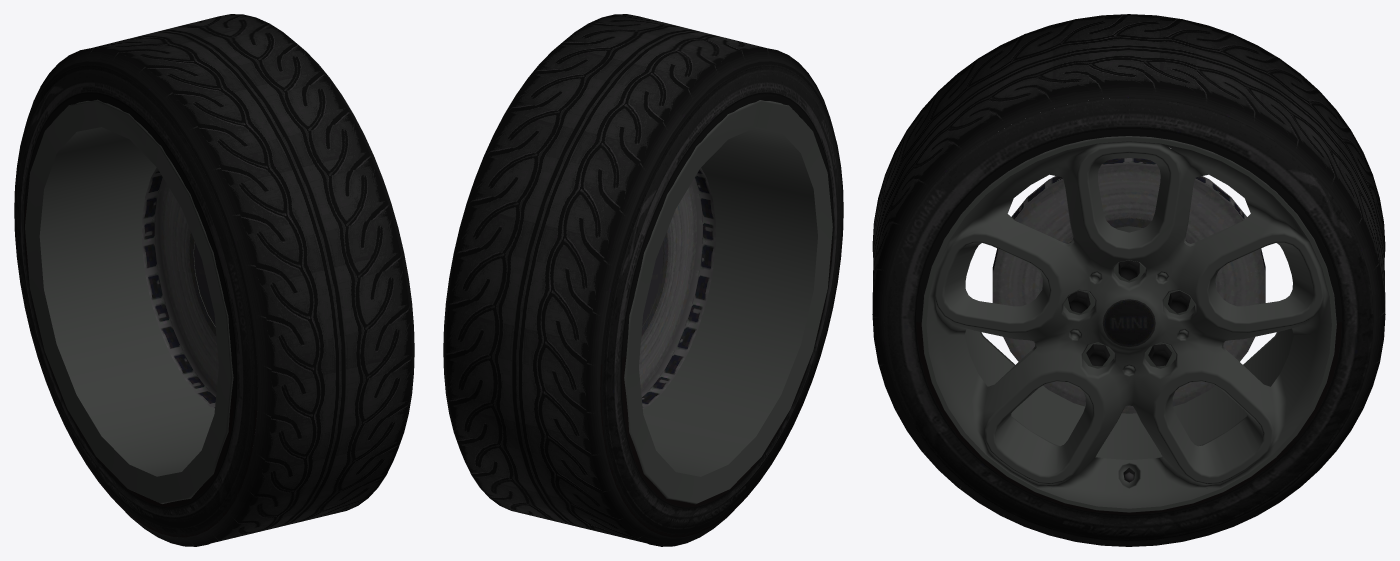
The model's file is wheel_rr.obj.
3 renders of one model, left to right at view 1: azimuth 30°, elevation 25°; view 2: azimuth 150°, elevation 25°; view 3: azimuth 270°, elevation 25°, orthographic.
Visible parts, largest first — view 1: wheel_rr; view 2: wheel_rr; view 3: wheel_rr.
Part boxes in pixels (left/top/right/bottom): wheel_rr: left=14, top=14, right=414, bottom=546; wheel_rr: left=443, top=14, right=843, bottom=546; wheel_rr: left=872, top=14, right=1385, bottom=546.
Size of the model in its own units: 0.2378 by 0.6064 by 0.6062.
